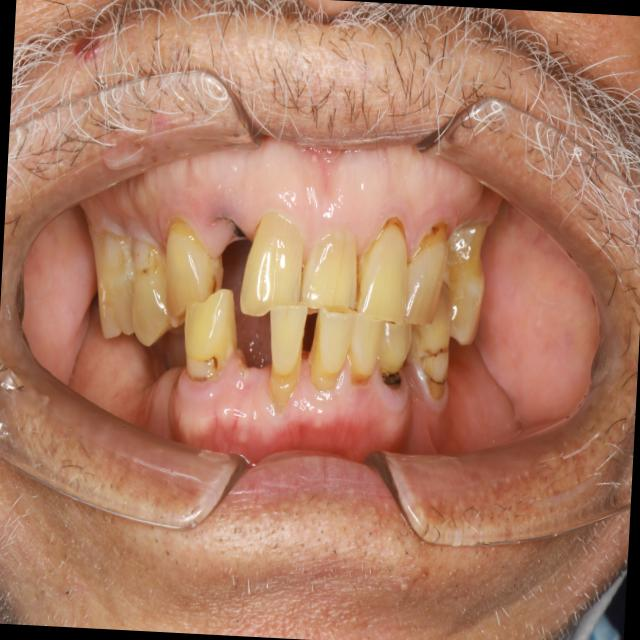tooth: (147, 202, 229, 337), (233, 199, 314, 330), (75, 205, 146, 347), (429, 201, 493, 355), (352, 197, 420, 340), (115, 213, 182, 357), (172, 278, 246, 405), (296, 201, 370, 327), (398, 199, 452, 333), (398, 313, 461, 417), (256, 292, 314, 404), (304, 295, 359, 409), (337, 302, 386, 401), (378, 310, 415, 409)
